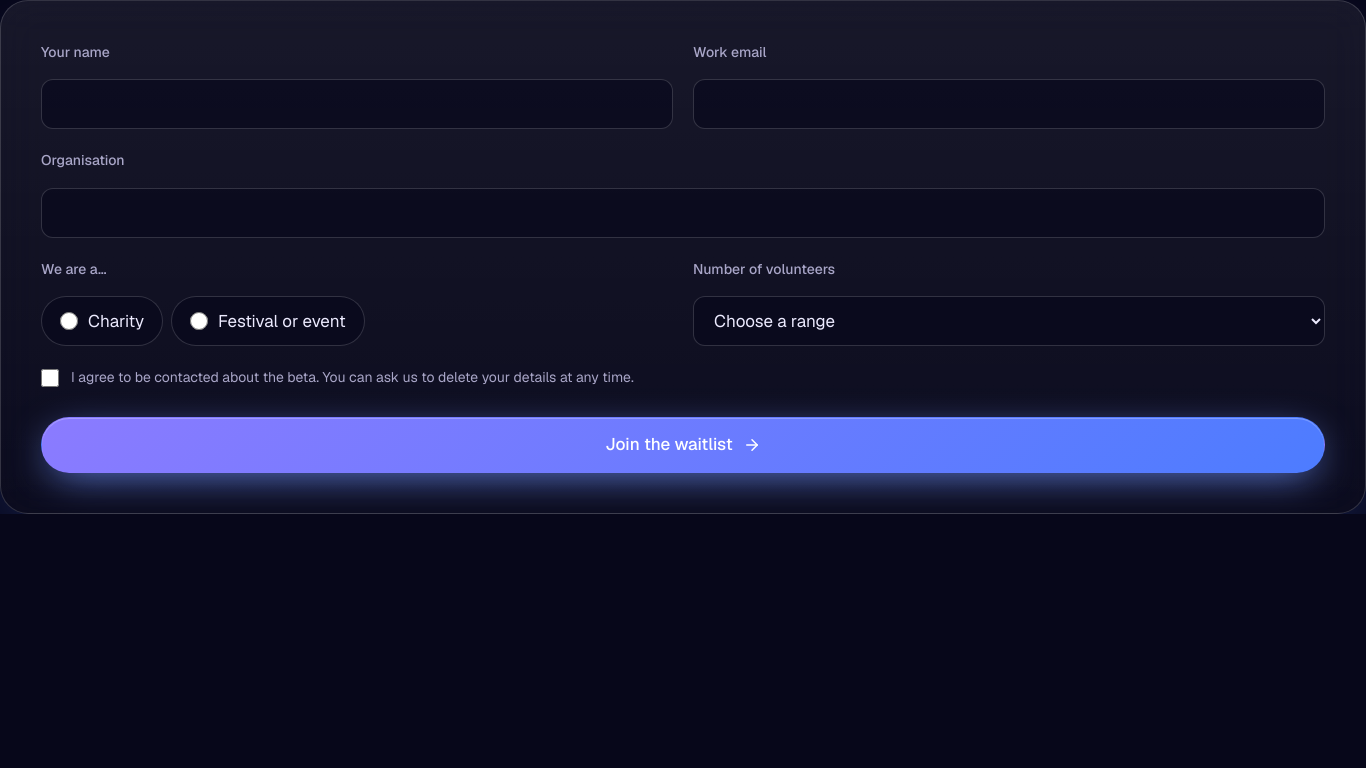
it: WaitlistForm › shows server errors
The width and height of the screenshot is (1366, 768).
Type "Mari Tamm" into the field labelled "Your name" at (357, 104), box left=41, top=79, right=673, bottom=129
Type "mari@example.org" into the field labelled "Work email" at (1009, 104), box left=693, top=79, right=1325, bottom=129
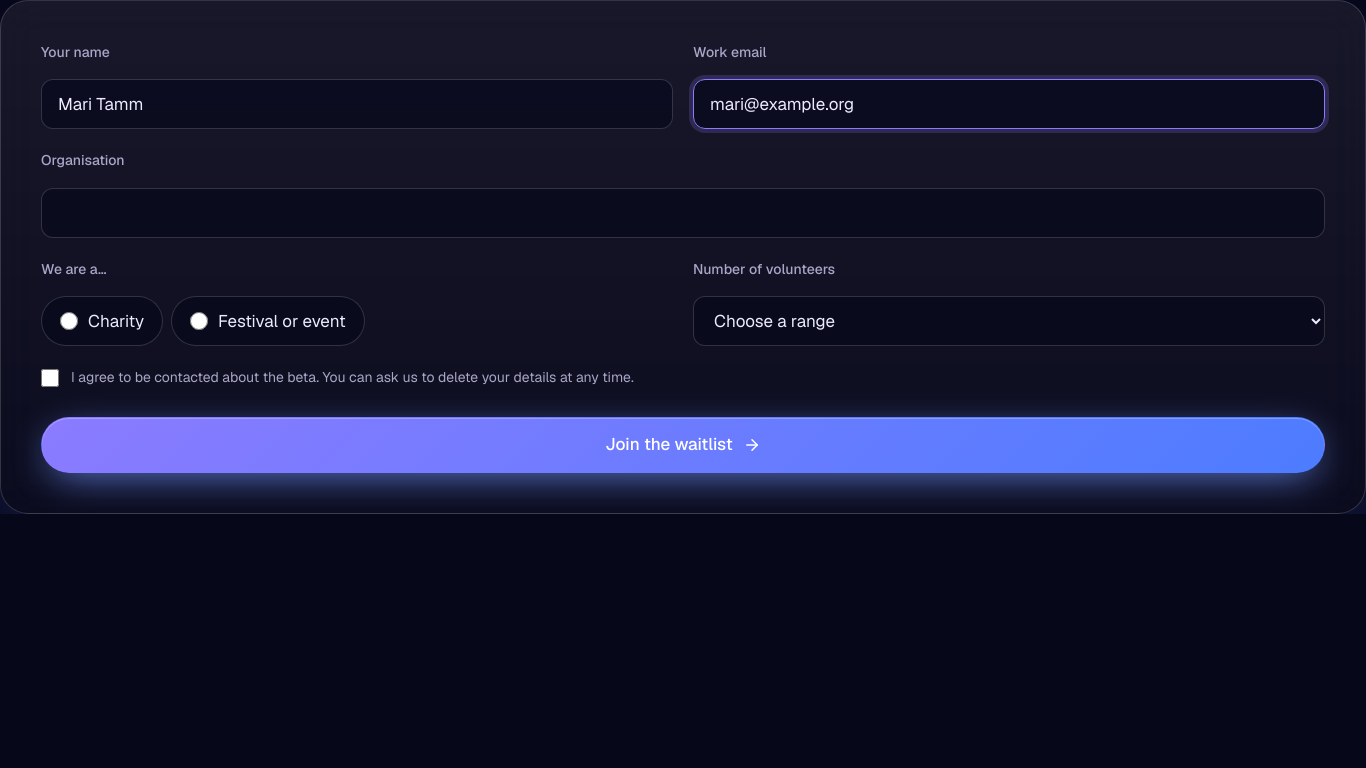
Type "Harbour Food Bank" into the field labelled "Organisation" at (683, 213), box left=41, top=188, right=1325, bottom=238
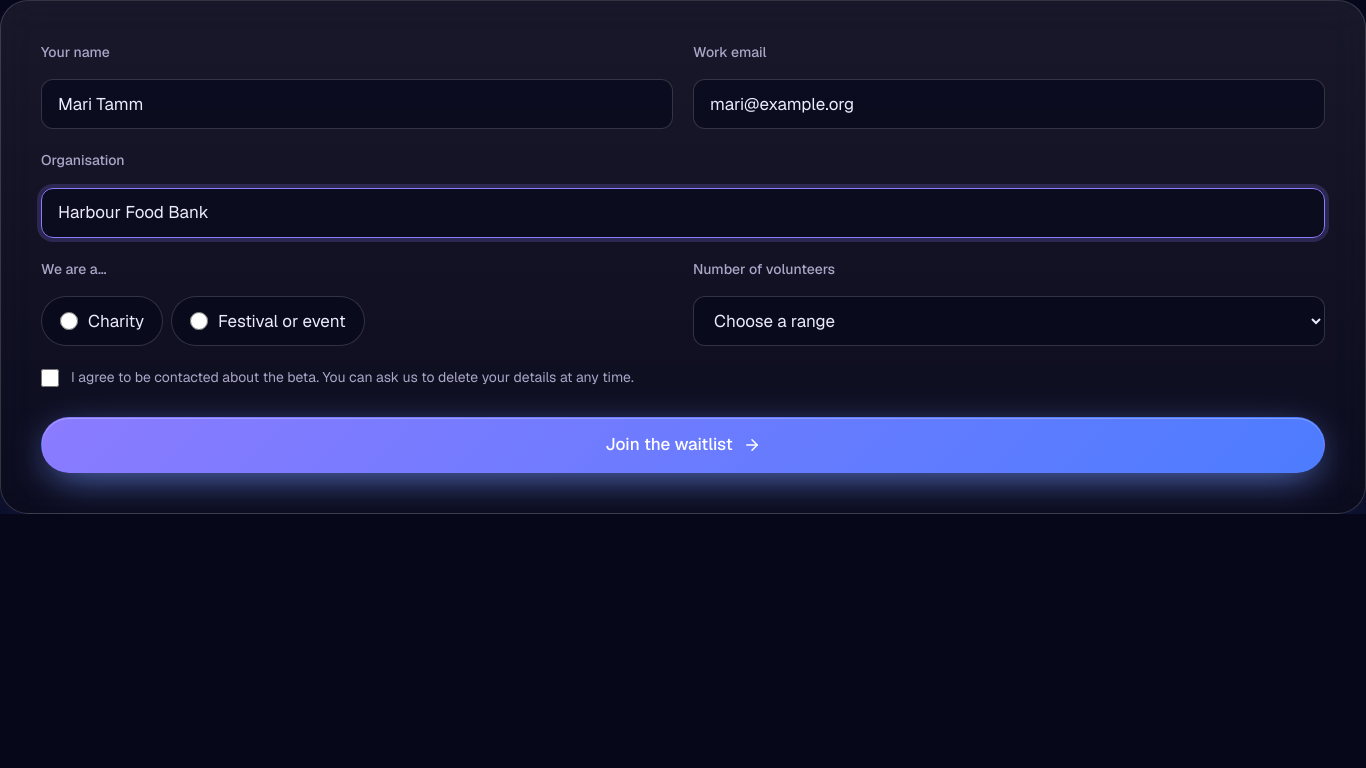
Click the radio button labelled "Charity" at (69, 321), box left=60, top=312, right=78, bottom=330
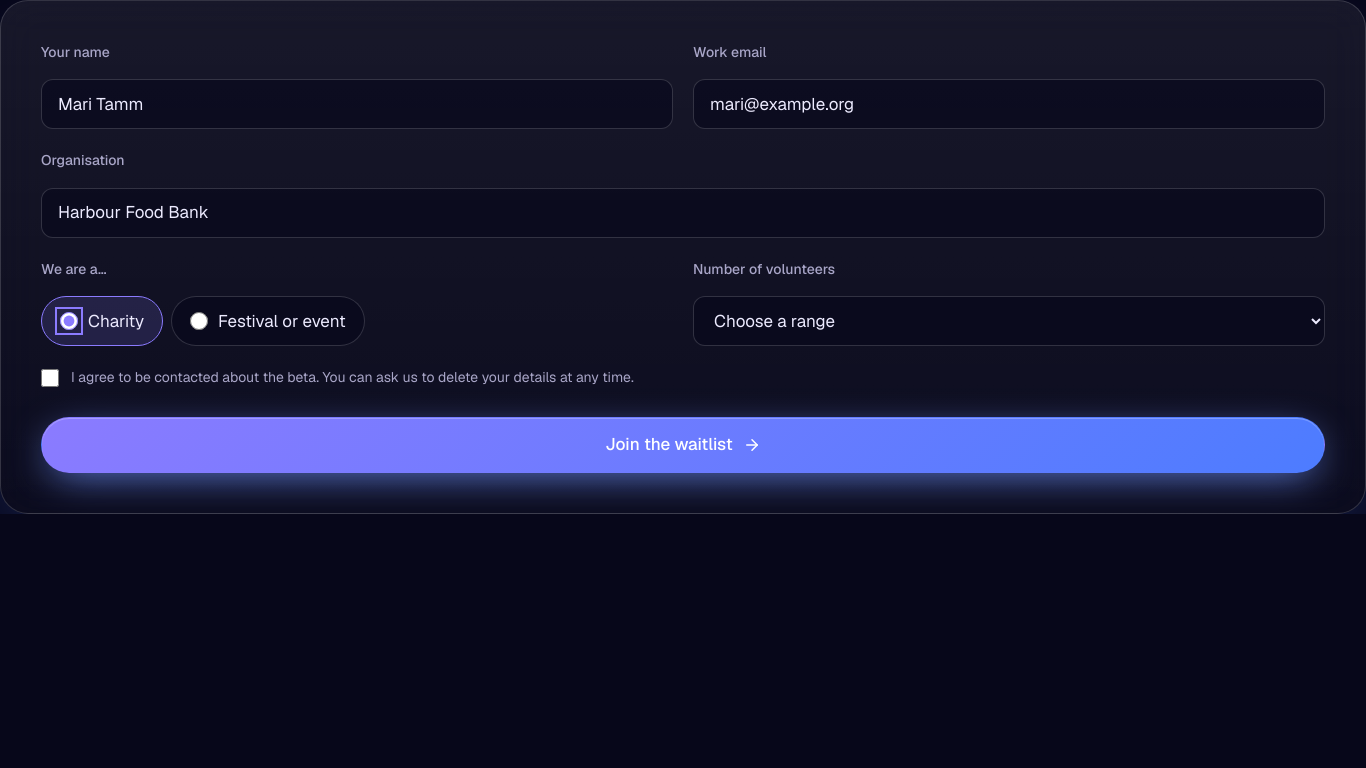
Select "26–100" in the dropdown labelled "Number of volunteers" at (1009, 321), box left=693, top=296, right=1325, bottom=346
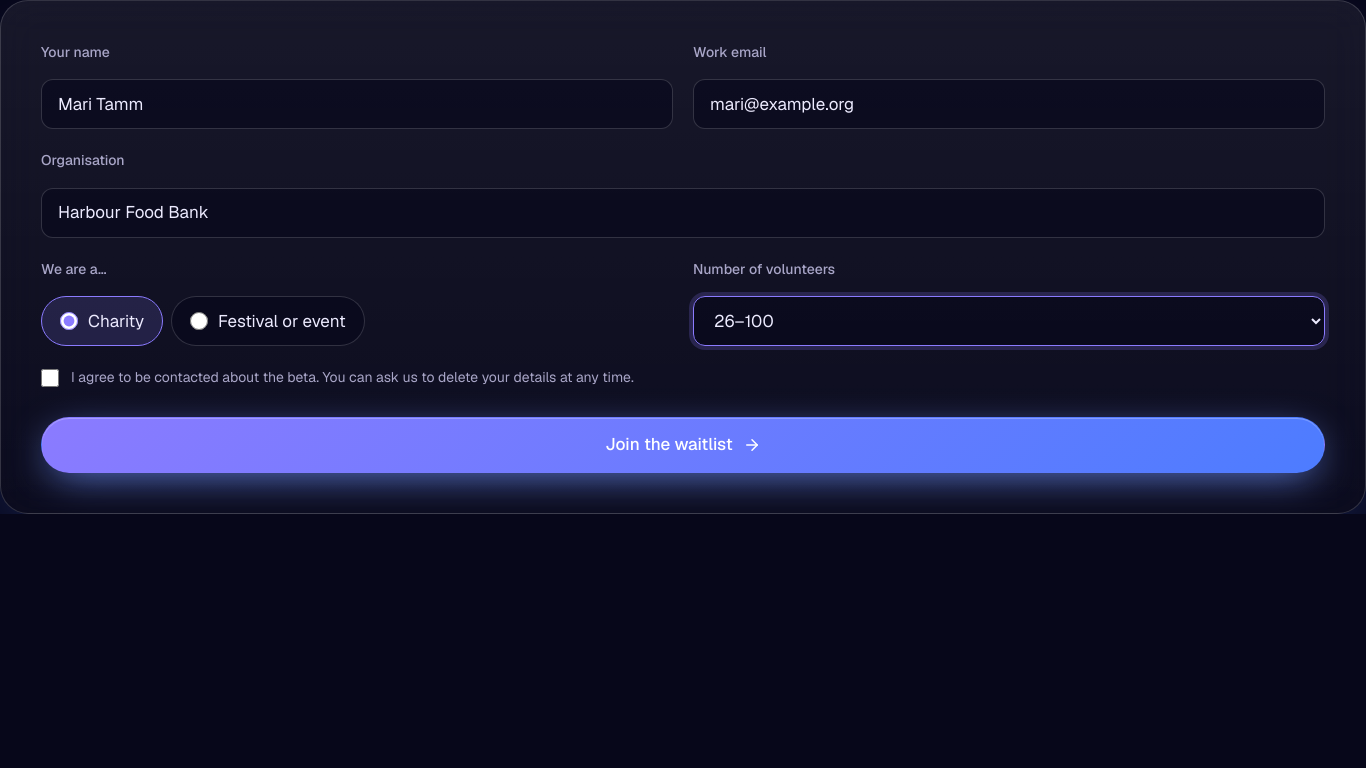
Click the checkbox at (50, 378), box left=41, top=369, right=59, bottom=387
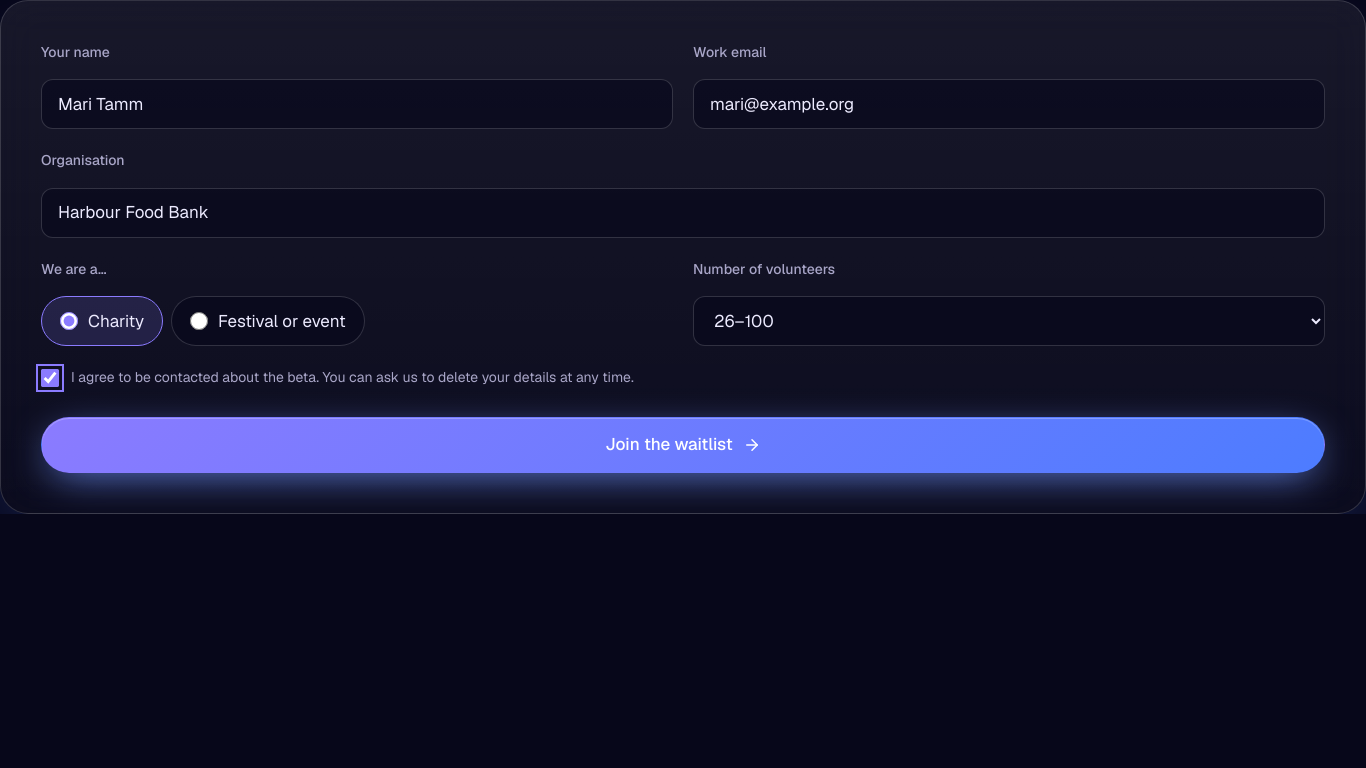
Click the button "Join the waitlist" at (683, 445), box left=41, top=417, right=1325, bottom=473
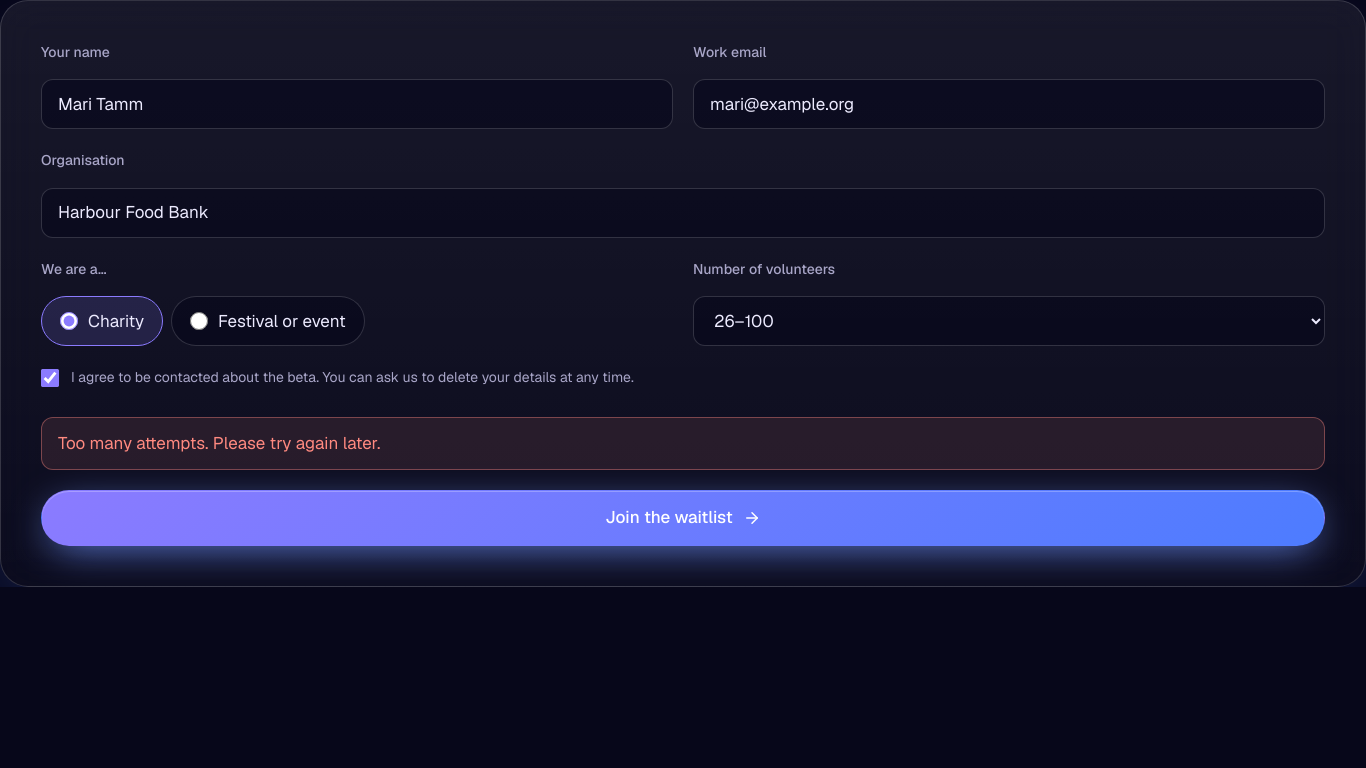
Check: the message shows "Too many attempts", box left=58, top=432, right=380, bottom=454
